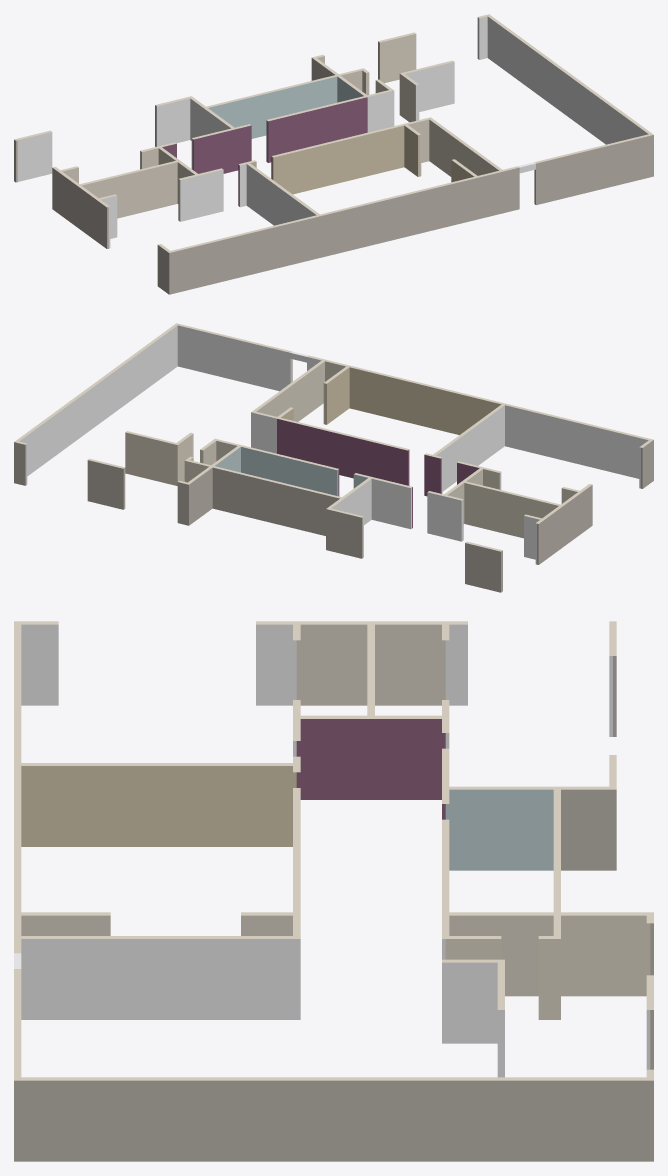
The model's file is apartment-walls.glb.
3 views of the same model, one above another, from view 1: azimuth 30°, elevation 25°; view 2: azimuth 150°, elevation 25°; view 3: azimuth 270°, elevation 25° (orthographic). The views are drawn at different scales.
Parts seen in each view (by area): view 1: AOC_PLUM_Walls, AOC_PLUM_Photo_Front-Door-Header; view 2: AOC_PLUM_Walls, AOC_PLUM_Photo_Front-Door-Header; view 3: AOC_PLUM_Walls, AOC_PLUM_Photo_Front-Door-Header.
Part boxes in pixels (left/top/right/bottom): AOC_PLUM_Walls: left=14, top=14, right=653, bottom=294; AOC_PLUM_Photo_Front-Door-Header: left=17, top=16, right=648, bottom=248; AOC_PLUM_Walls: left=14, top=323, right=653, bottom=592; AOC_PLUM_Photo_Front-Door-Header: left=19, top=325, right=648, bottom=564; AOC_PLUM_Walls: left=14, top=621, right=653, bottom=1161; AOC_PLUM_Photo_Front-Door-Header: left=14, top=624, right=650, bottom=1077.
Size of the model in its own units: 29.2 by 2.4 by 17.2.
